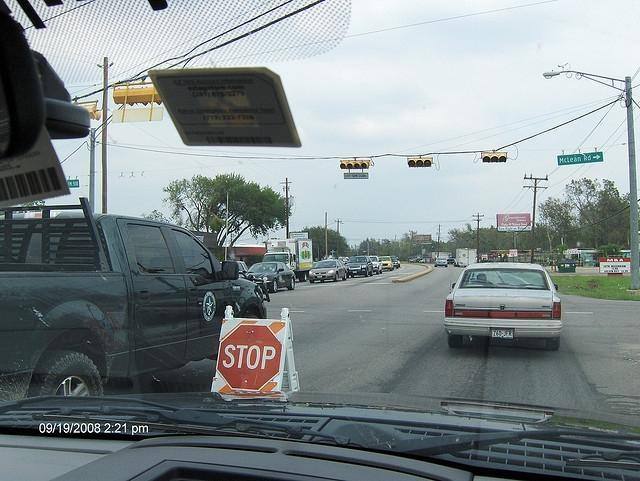car: (444, 262, 564, 351), (248, 262, 296, 292), (308, 259, 346, 283), (346, 256, 374, 278), (378, 255, 394, 270), (369, 256, 382, 274), (434, 257, 448, 267), (390, 256, 400, 268), (237, 262, 248, 272), (446, 258, 459, 264)
truck: (2, 198, 271, 398), (262, 238, 312, 282)
